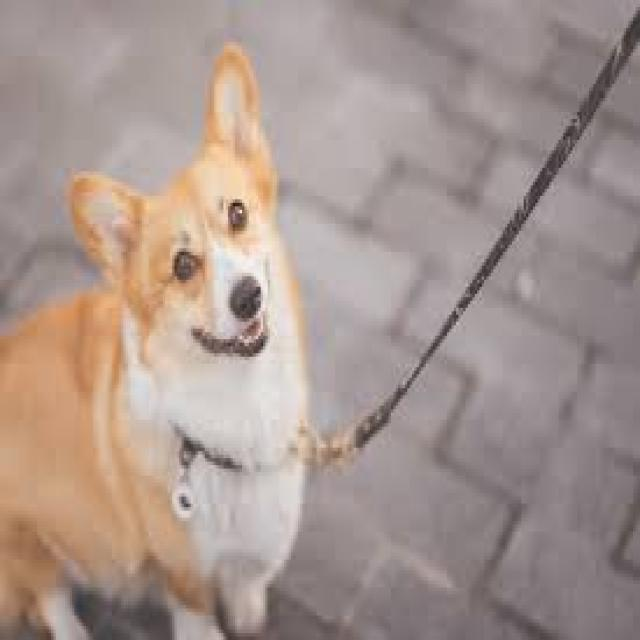CORGI: (4, 45, 323, 640)
